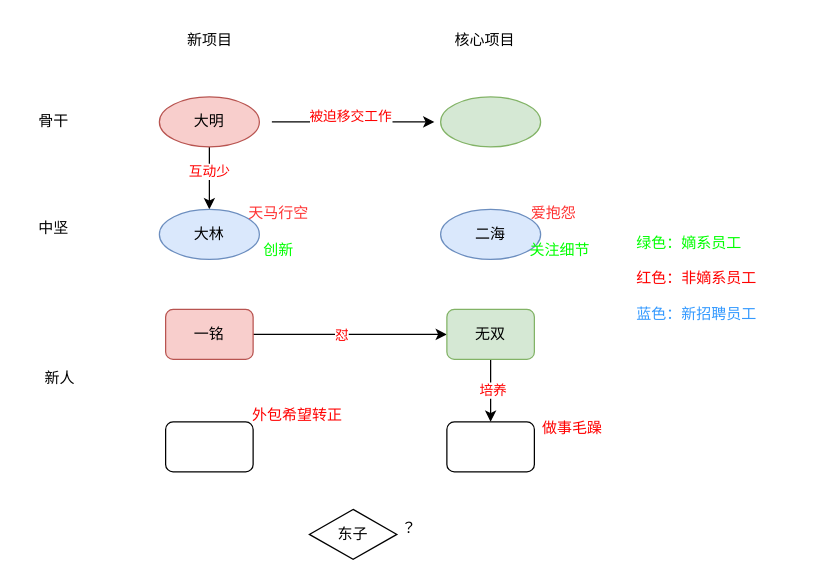
Some shapes in this 824 by 581 pixel diagram are drawn without their labels. Each missing label, with the centre of its shape:
"云天" belongs at [208,446].
"喜杨扬" belongs at [490,446].
"大帅" belongs at [490,121].
